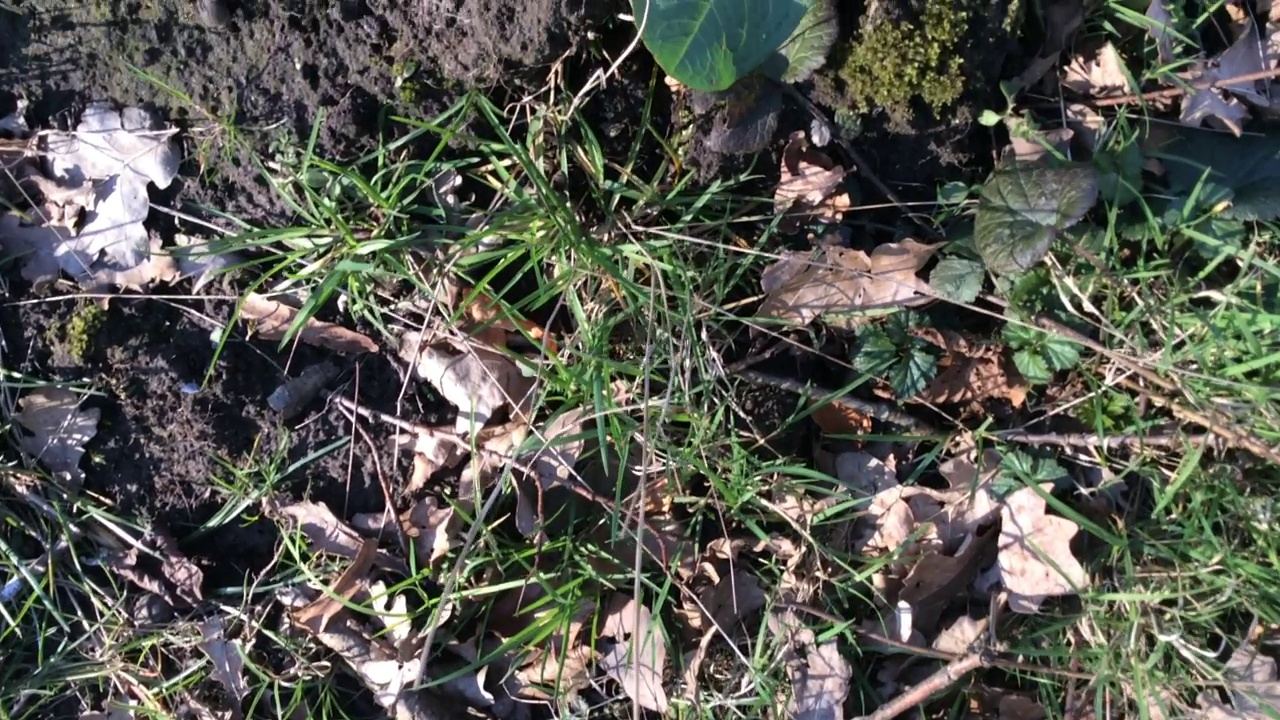rumex: (631, 1, 817, 92)
